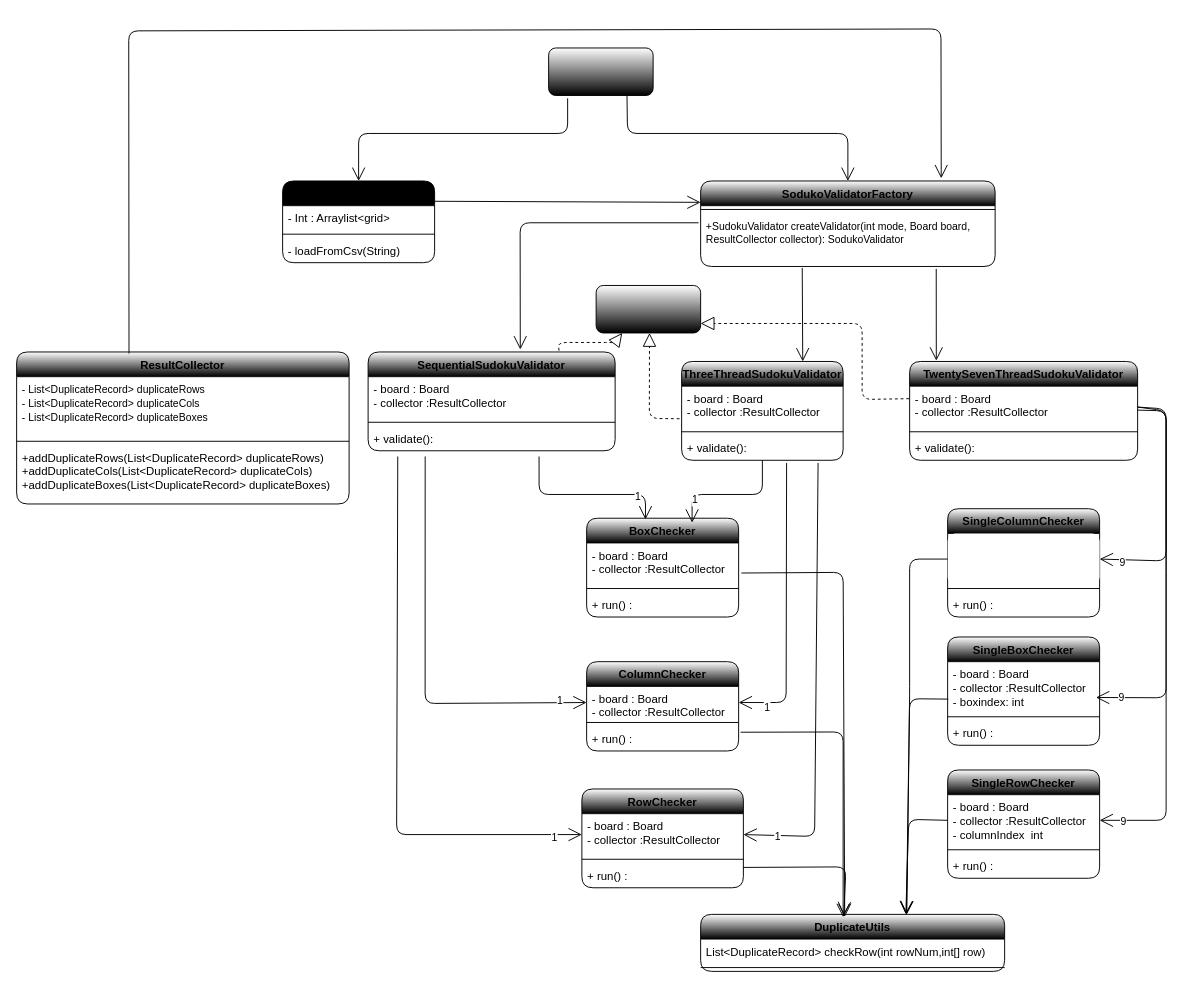
The diagram is 1196 pixels wide and 988 high, and some of its shapes have lost their labels. The centre of each missing label's shape, as x and y in pixels:
- board : Board - collector : ResultCollector - columnindex : int: the point at 1023,558
main: the point at 600,71
«interface» SudokuValidator: the point at 648,309
